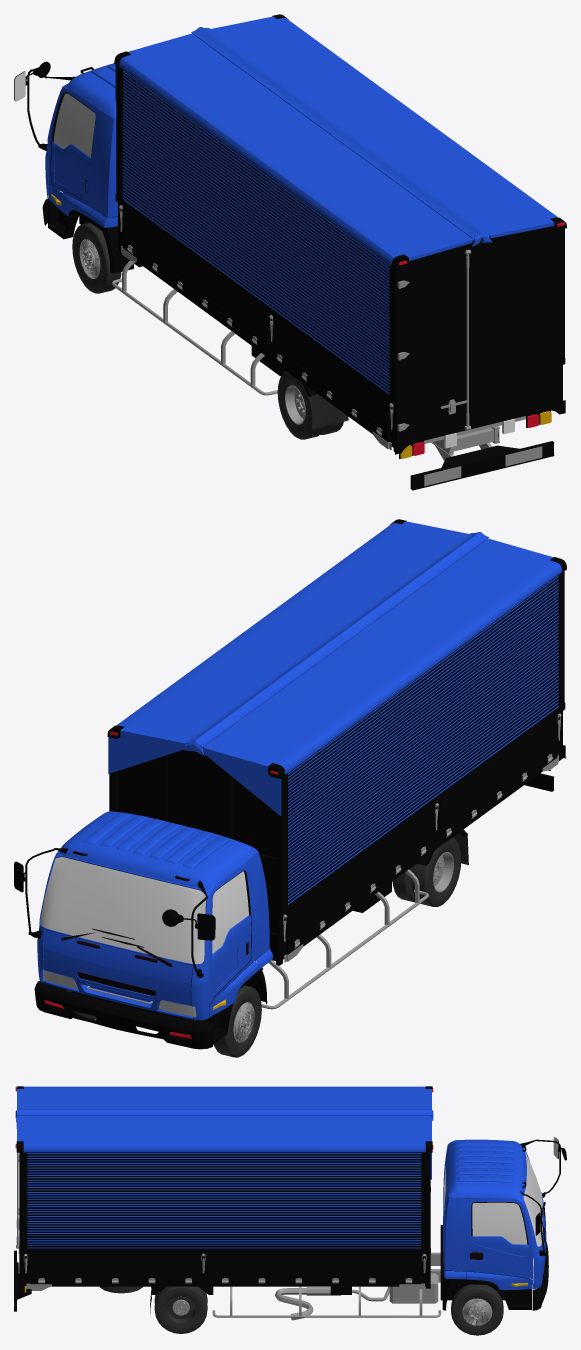
Rendered from Mini Truck.fbx.
3 views of the same model, one above another, from view 1: azimuth 30°, elevation 25°; view 2: azimuth 150°, elevation 25°; view 3: azimuth 270°, elevation 25° (orthographic). The views are drawn at different scales.
Visible parts, largest first — view 1: Mini Truck Body, Mini Truck Head, Front Wheel Left, Rear Wheel Left; view 2: Mini Truck Body, Mini Truck Head, Rear Wheel Left, Front Wheel Left; view 3: Mini Truck Body, Mini Truck Head, Front Wheel Right, Rear Wheel Right.
Part boxes in pixels (bbox=[...]): Mini Truck Body: bbox=[111, 14, 566, 490]; Mini Truck Head: bbox=[14, 61, 154, 273]; Front Wheel Left: bbox=[72, 222, 121, 293]; Rear Wheel Left: bbox=[277, 371, 343, 439]; Mini Truck Body: bbox=[107, 519, 566, 1009]; Mini Truck Head: bbox=[14, 811, 272, 1049]; Rear Wheel Left: bbox=[392, 837, 461, 906]; Front Wheel Left: bbox=[213, 985, 261, 1057]; Mini Truck Body: bbox=[14, 1086, 441, 1320]; Mini Truck Head: bbox=[440, 1137, 566, 1310]; Front Wheel Right: bbox=[451, 1284, 503, 1335]; Rear Wheel Right: bbox=[154, 1286, 207, 1333].
Size of the model in its own units: 625 by 760 by 1929.
